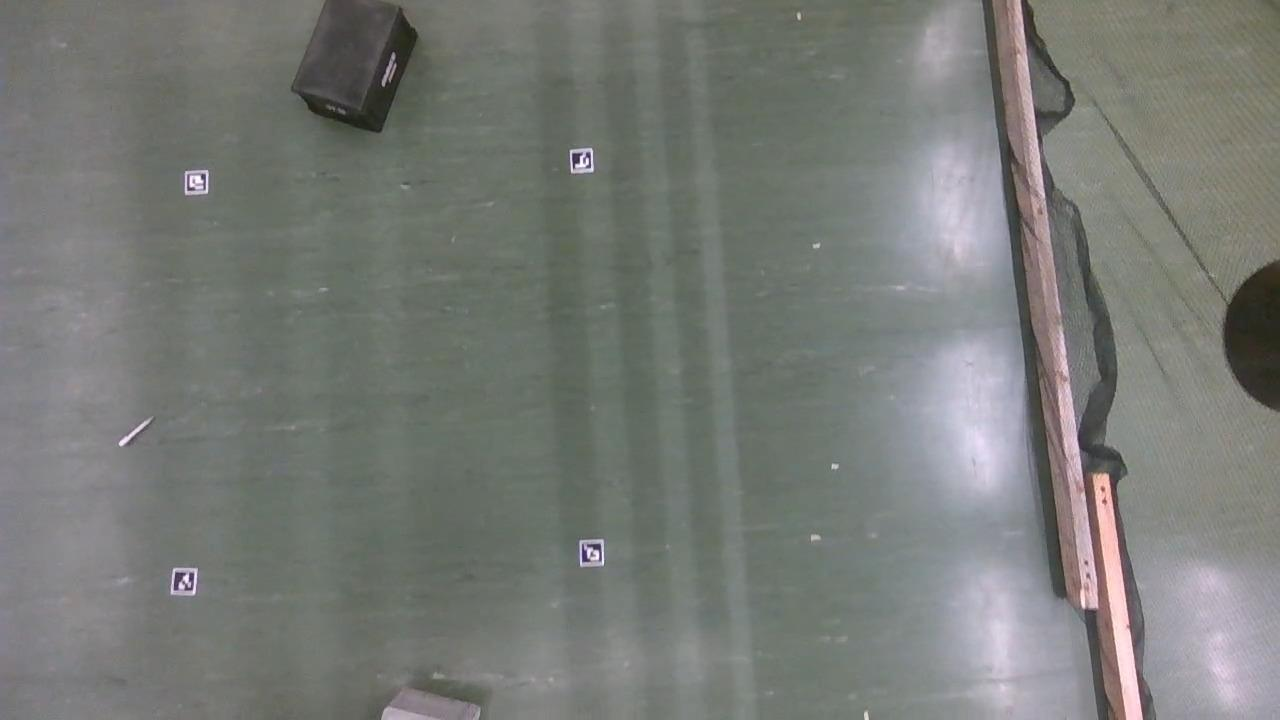probes: (118, 415, 153, 447)
rako: (291, 0, 417, 134)
